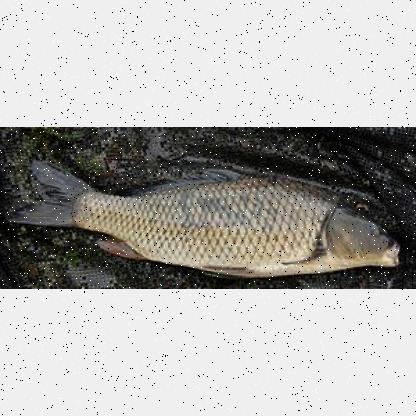ikan-mas: (23, 159, 402, 273)
